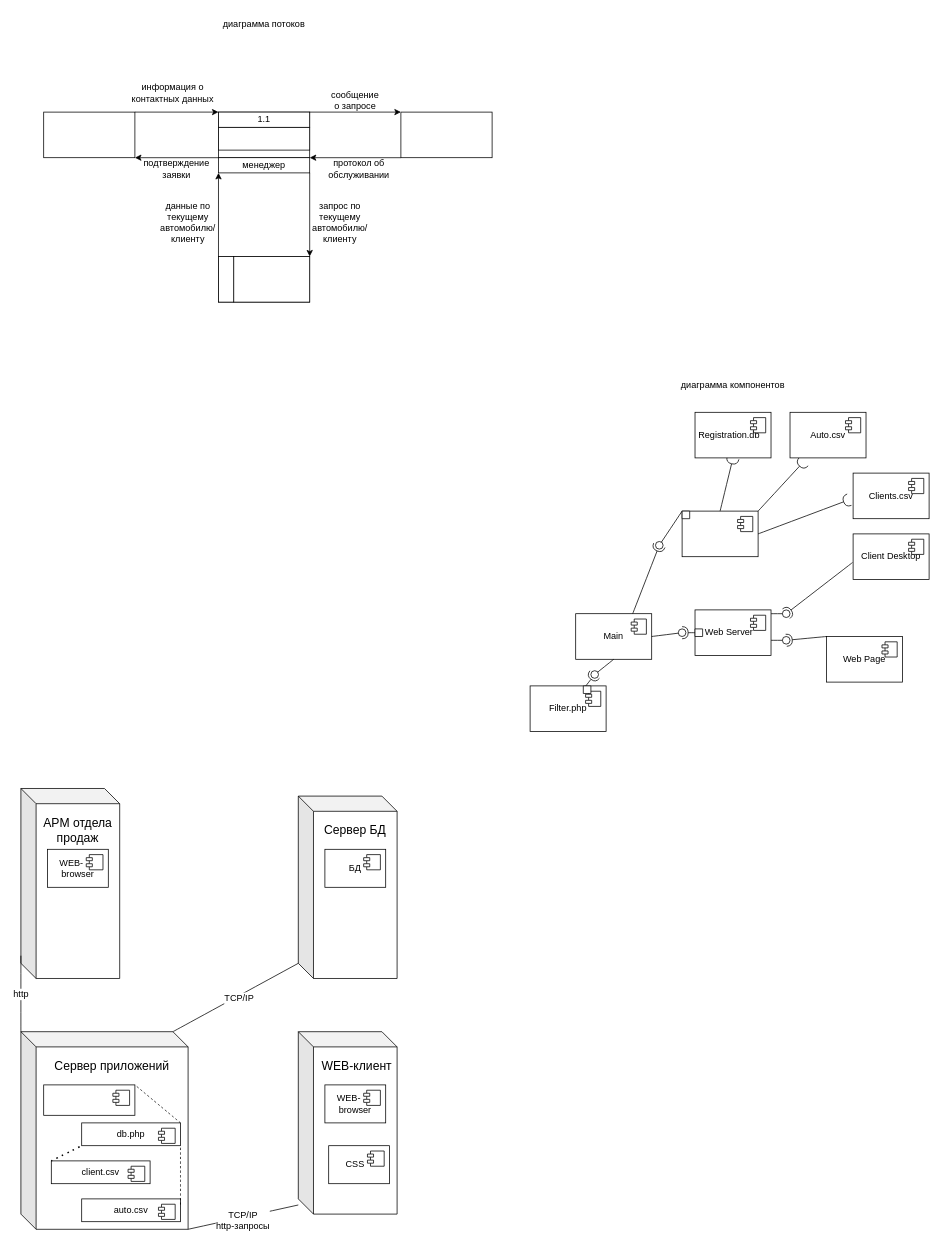
Some shapes in this 942 by 1244 pixel diagram are drawn without their labels. The centre of each missing label's shape, as x and y in pixels:
"D1" goes at (226,279).
"Database" goes at (719,533).
"PHP- интерпретатор" goes at (89,1099).
"администратор" goes at (446,134).
"база данных с данными о товарах, клиентах" goes at (271,279).
"оформить заявку" goes at (264,138).
"покупатель" goes at (89,134).
